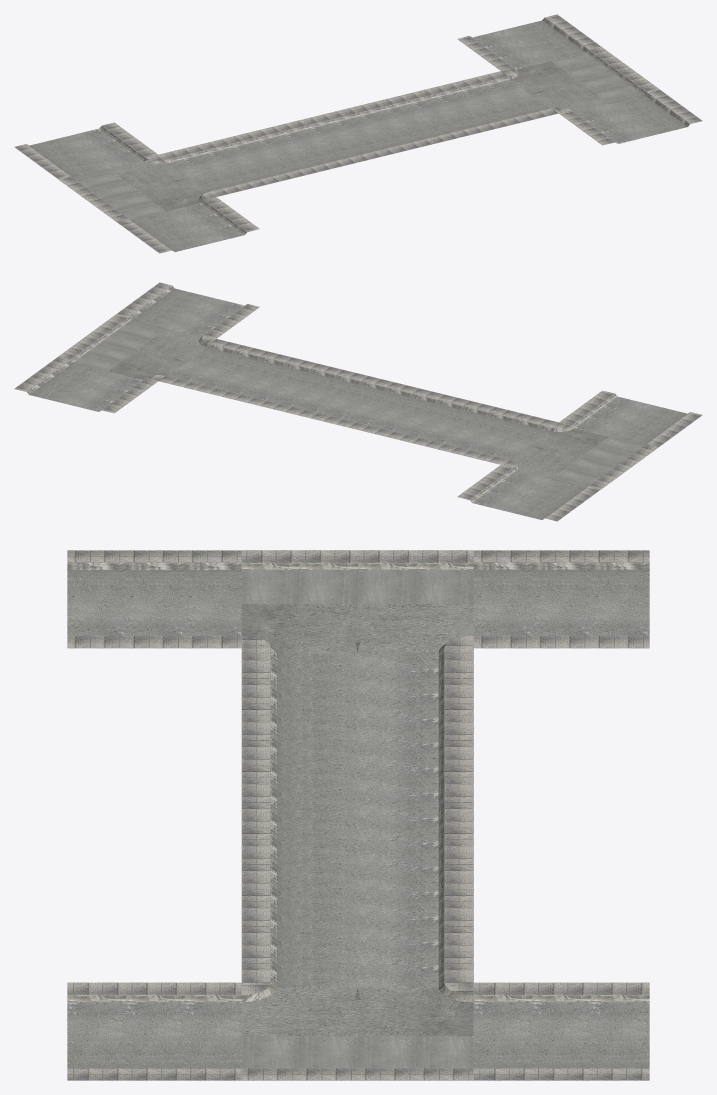
The model's file is Road.fbx.
The picture shows the model from 3 angles, top to bottom: view 1: azimuth 30°, elevation 25°; view 2: azimuth 150°, elevation 25°; view 3: azimuth 270°, elevation 25°; orthographic projection. The views are drawn at different scales.
Parts seen in each view (by area): view 1: Road; view 2: Road; view 3: Road.
Part boxes in pixels (x1,y1,x2,y2): Road: (14,14,702,253); Road: (14,282,702,521); Road: (67,550,649,1080).
Size of the model in its own units: 4279 by 18.14 by 1986.
3 materials, 3 textured.
